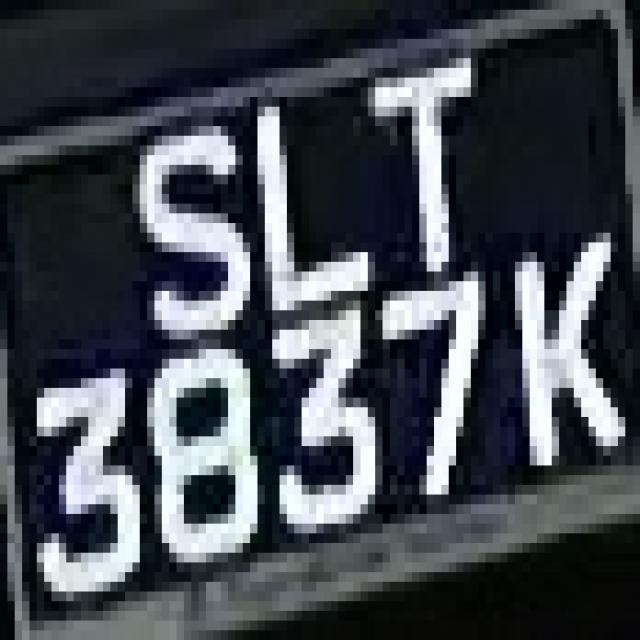3: (235, 301, 390, 533), (22, 359, 155, 611)
7: (368, 272, 500, 552)
8: (140, 310, 287, 602)
K: (506, 237, 632, 472), (6, 4, 8, 8)
L: (243, 97, 397, 339)
S: (118, 97, 250, 339)
T: (360, 58, 493, 281)
